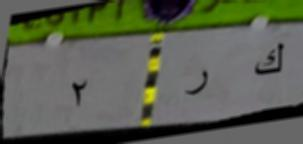2: (68, 76, 90, 112)
kaaf: (248, 36, 288, 82)
raa: (181, 61, 212, 104)
